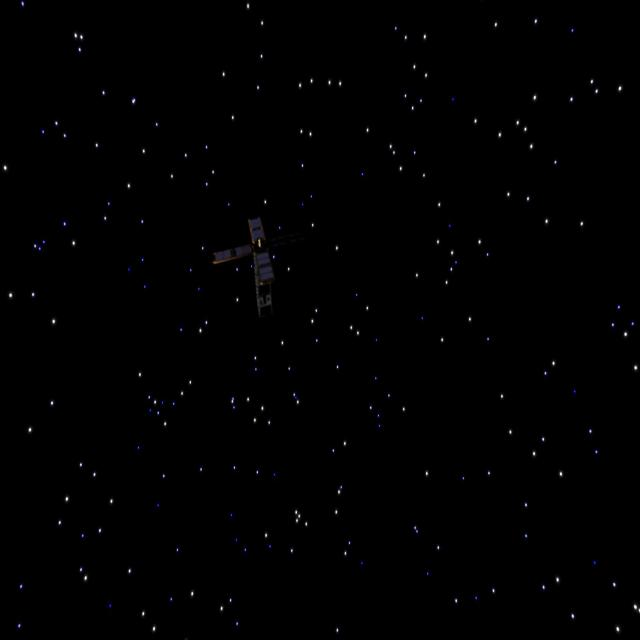medium_debris: (211, 207, 288, 322)
